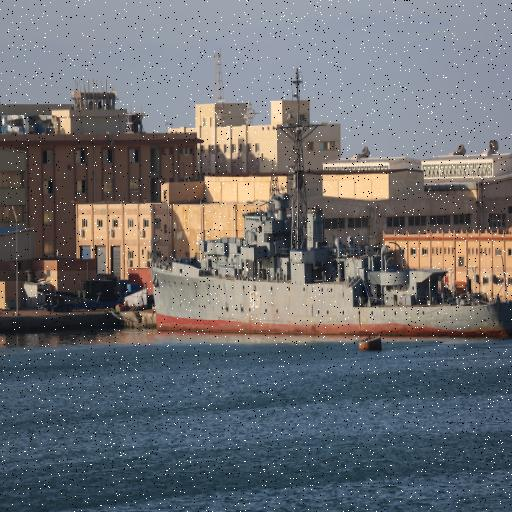Fragata: (148, 74, 512, 344)
